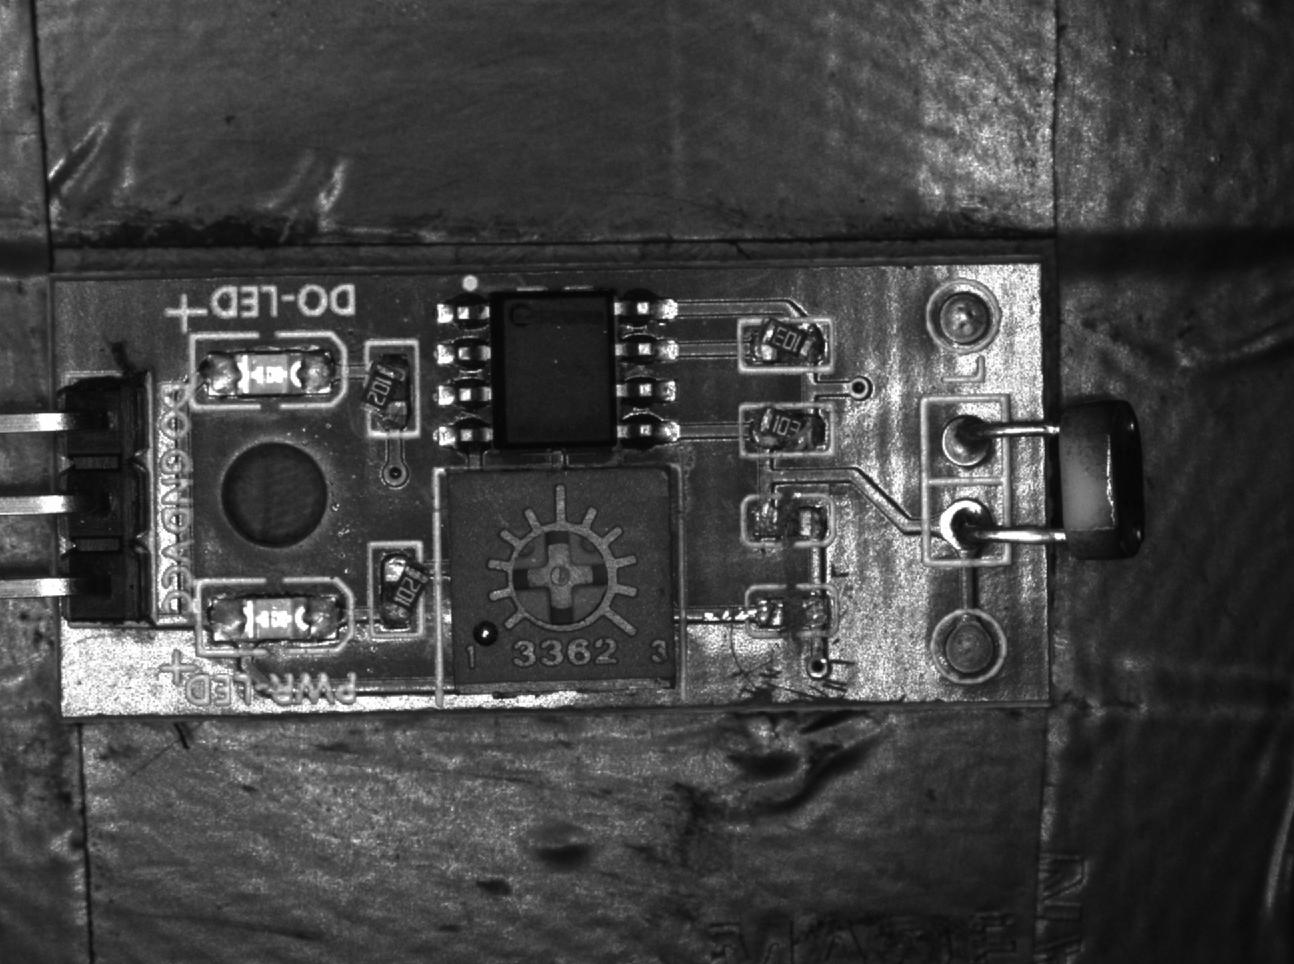lifted: (368, 540, 427, 640), (363, 342, 419, 437), (740, 319, 832, 371), (740, 402, 830, 454)
miss: (742, 493, 832, 549), (744, 587, 837, 639)
